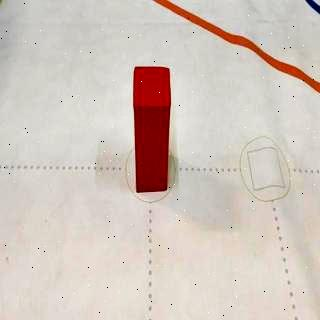redbox: (134, 66, 172, 194)
